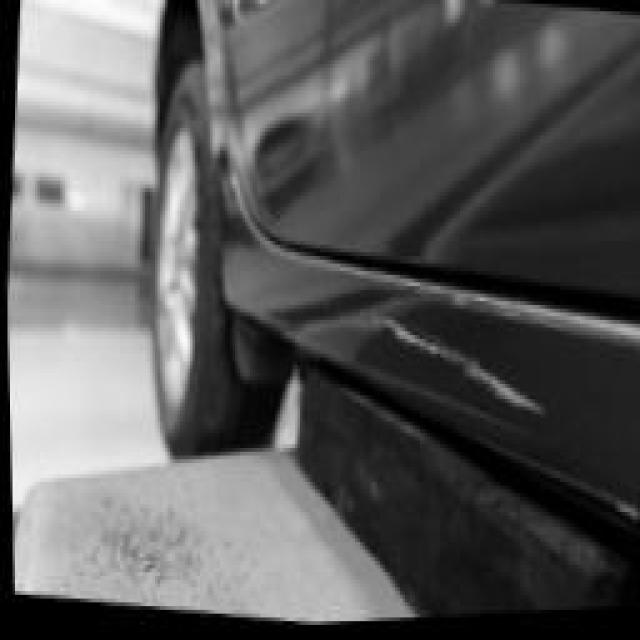Door: (332, 260, 581, 474)
